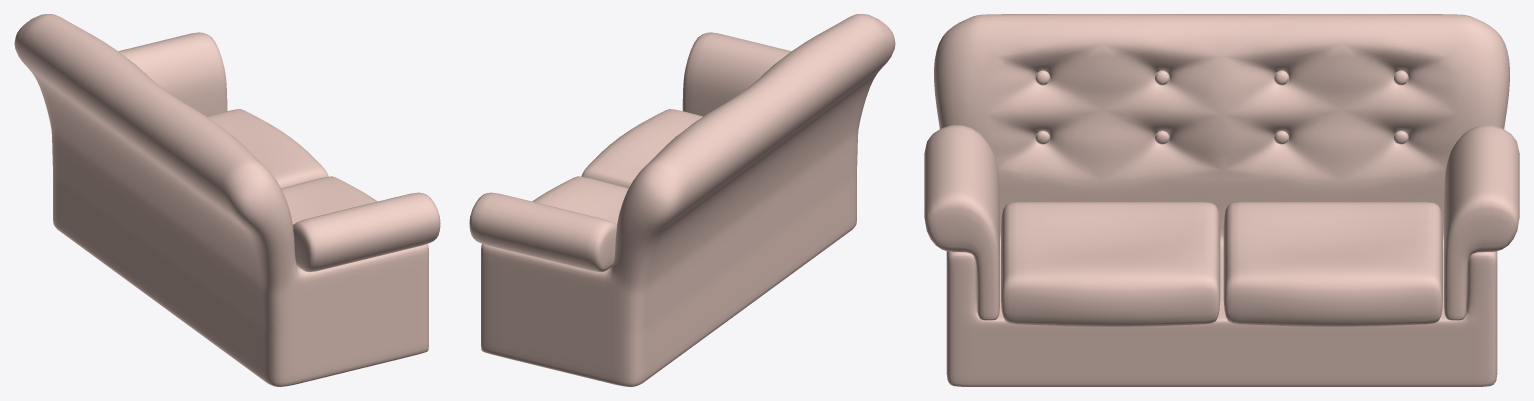
File: white_sofa_1.glb
3 renders of one model, left to right at view 1: azimuth 30°, elevation 25°; view 2: azimuth 150°, elevation 25°; view 3: azimuth 270°, elevation 25°, orthographic. The views are drawn at different scales.
Parts seen in each view (by area): view 1: Sofa, Plane.005, Plane.006; view 2: Sofa, Plane.005, Plane.006; view 3: Sofa, Plane.006, Plane.005.
Boxes of the visible parts, bbox=[...] form: Sofa: bbox=[14, 14, 428, 386]; Plane.005: bbox=[118, 32, 440, 272]; Plane.006: bbox=[207, 109, 377, 224]; Sofa: bbox=[481, 14, 895, 386]; Plane.005: bbox=[469, 32, 791, 272]; Plane.006: bbox=[532, 109, 702, 224]; Sofa: bbox=[934, 14, 1509, 386]; Plane.006: bbox=[1001, 202, 1442, 326]; Plane.005: bbox=[924, 125, 1519, 320].
Size of the model in its own units: 2.21 by 2.19 by 4.33.
